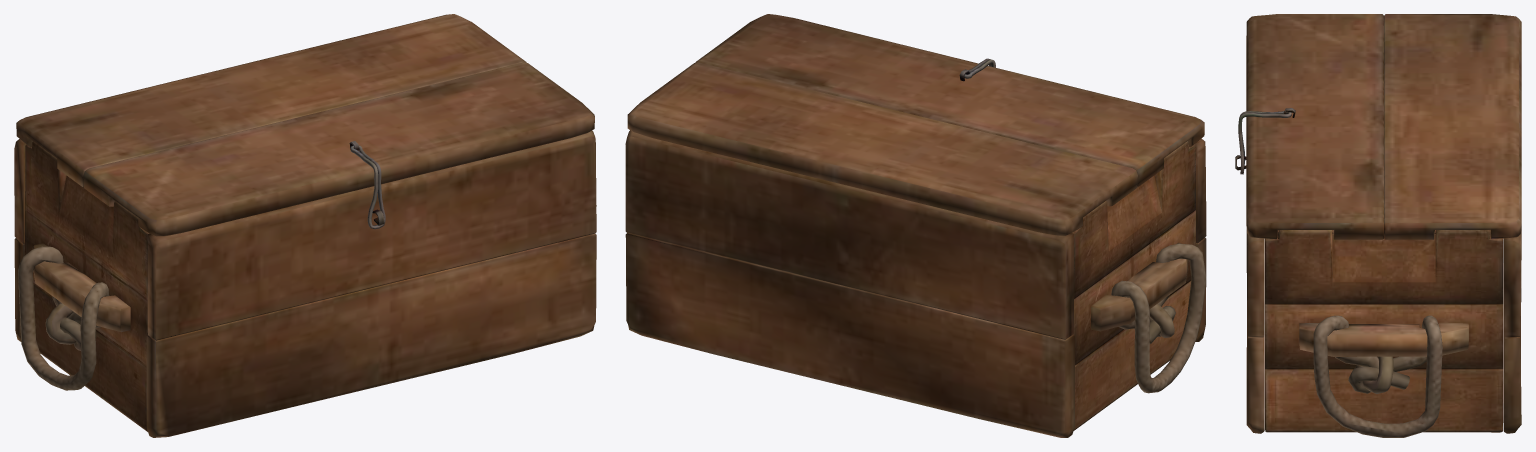
The model's file is wooden_crate_01.glb.
3 views of the same model, side by side, from view 1: azimuth 30°, elevation 25°; view 2: azimuth 150°, elevation 25°; view 3: azimuth 270°, elevation 25° (orthographic). The views are drawn at different scales.
Parts seen in each view (by area): view 1: wooden_crate_01_lid; view 2: wooden_crate_01_lid; view 3: wooden_crate_01_lid.
Part boxes in pixels (x1,y1,x2,y2): wooden_crate_01_lid: (14, 14, 596, 437); wooden_crate_01_lid: (625, 14, 1206, 437); wooden_crate_01_lid: (1235, 14, 1521, 437).
Size of the model in its own units: 0.8245 by 0.3485 by 0.4072.
1 material, 1 textured.
